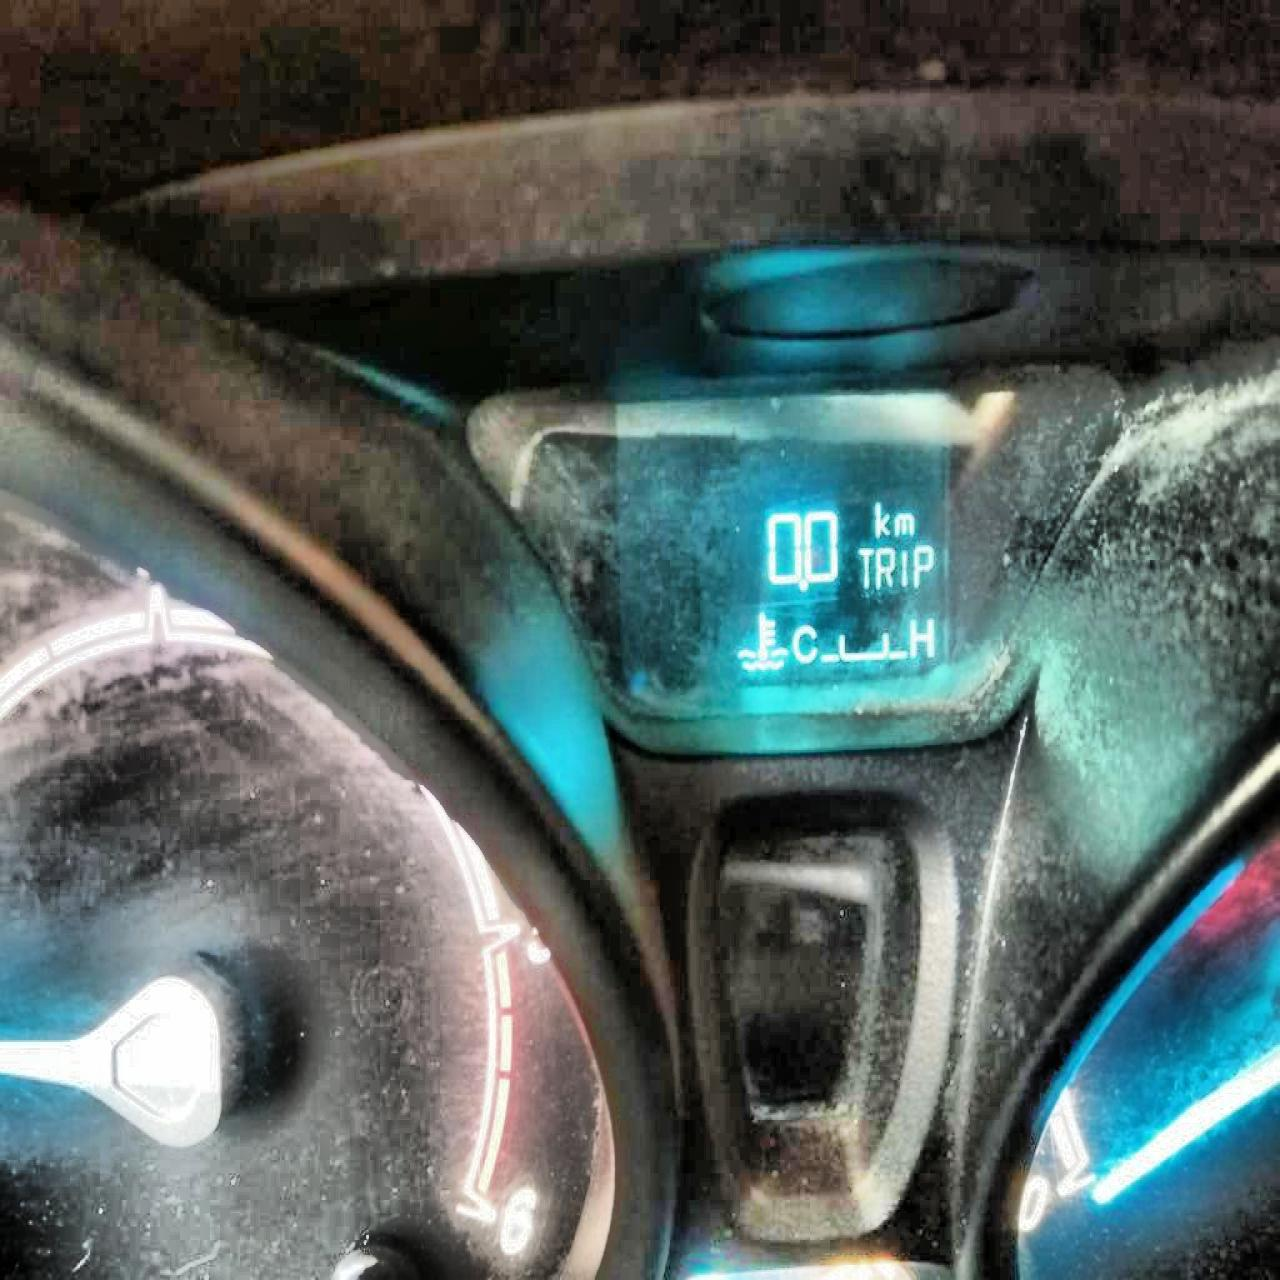-: (795, 576, 808, 592)
0: (802, 506, 839, 584), (765, 509, 803, 585)
X: (789, 620, 817, 665), (910, 542, 935, 588), (907, 614, 934, 659), (874, 544, 896, 588), (855, 544, 874, 588), (872, 498, 890, 538), (892, 509, 913, 537), (897, 545, 908, 588)
odometer: (590, 418, 1001, 704)
